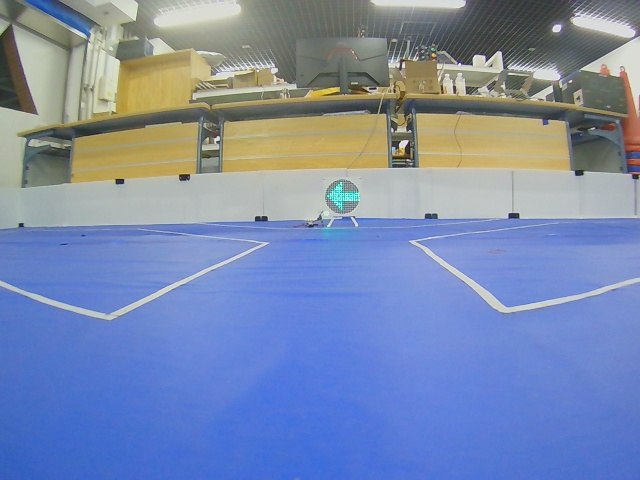left_green: (325, 179, 360, 214)
